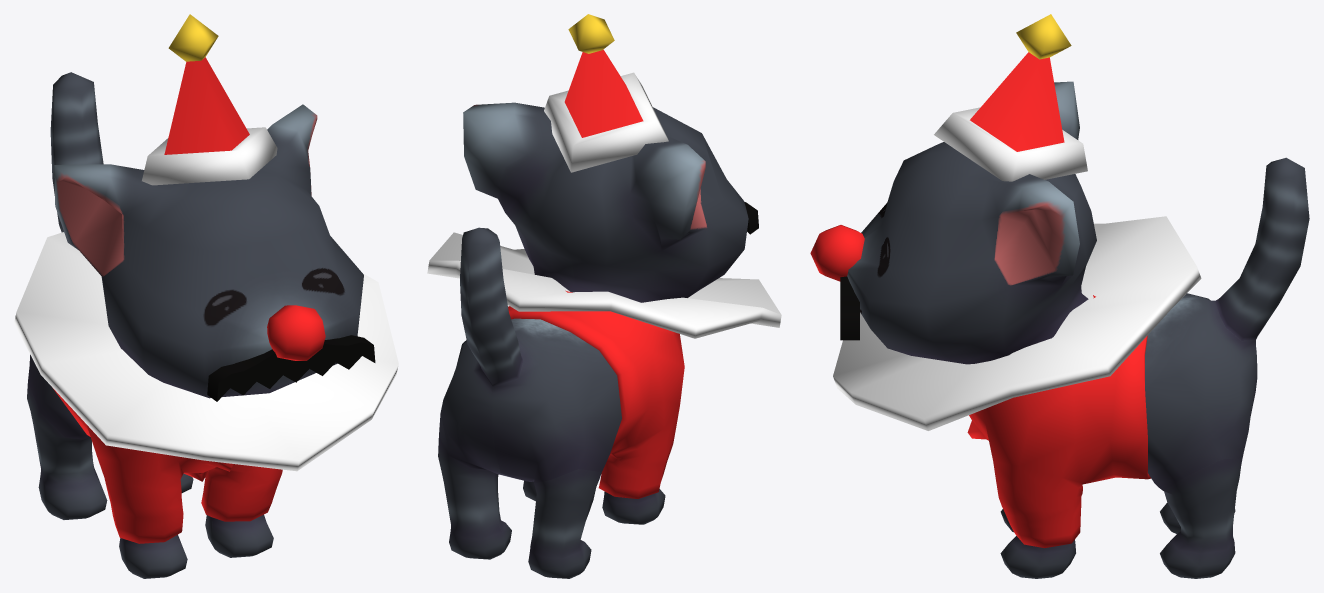
Rendered from Performer Cat04.fbx.
3 views of the same model, side by side, from view 1: azimuth 30°, elevation 25°; view 2: azimuth 150°, elevation 25°; view 3: azimuth 270°, elevation 25° (orthographic). The views are drawn at different scales.
Visible parts, largest first — view 1: Cat_Base003, Performer_Cat_Neck, Performer_Cat_Shirt, Performer_Cat_Hat, Performer_Cat_Face; view 2: Cat_Base003, Performer_Cat_Shirt, Performer_Cat_Neck, Performer_Cat_Hat; view 3: Cat_Base003, Performer_Cat_Neck, Performer_Cat_Shirt, Performer_Cat_Hat, Performer_Cat_Face.
Part boxes in pixels (x1,y1,x2,y2): Cat_Base003: (27,72,363,578); Performer_Cat_Neck: (14,232,398,471); Performer_Cat_Shirt: (53,388,282,543); Performer_Cat_Hat: (142,14,277,185); Performer_Cat_Face: (207,305,375,401); Cat_Base003: (438,102,748,578); Performer_Cat_Shirt: (508,290,684,498); Performer_Cat_Neck: (427,232,781,338); Performer_Cat_Hat: (544,14,668,172); Cat_Base003: (847,81,1309,578); Performer_Cat_Neck: (833,216,1201,430); Performer_Cat_Shirt: (967,295,1151,548); Performer_Cat_Hat: (934,14,1087,181); Performer_Cat_Face: (810,225,864,340).
Bounding box in the file's own units: 2.3 × 2.99 × 3.53.
Materials: 5 (1 with a texture image).
